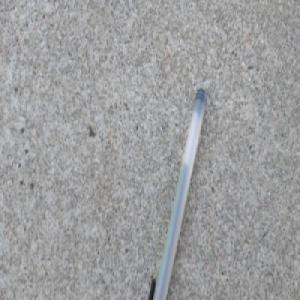Pen: (146, 86, 208, 300)
